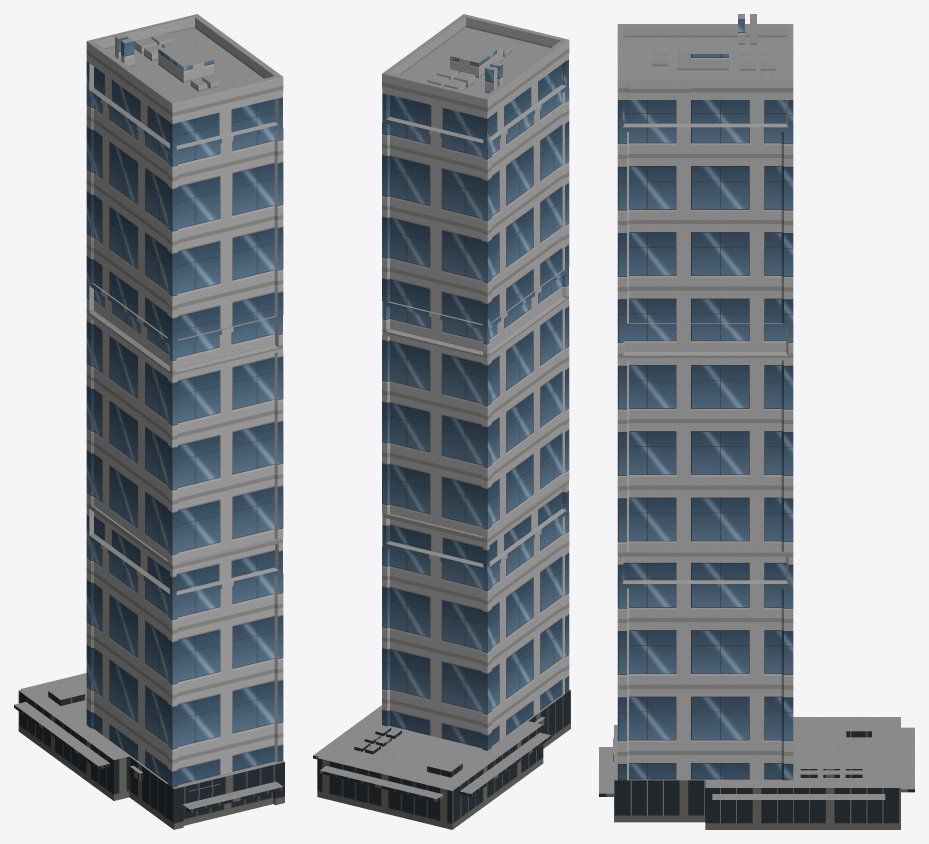
File: Immeuble_1.obj
3 views of the same model, side by side, from view 1: azimuth 30°, elevation 25°; view 2: azimuth 150°, elevation 25°; view 3: azimuth 270°, elevation 25° (orthographic). The views are drawn at different scales.
Parts seen in each view (by area): view 1: Immeuble; view 2: Immeuble; view 3: Immeuble.
Boxes of the visible parts, x1=… form: Immeuble: x1=14, y1=14, x2=284, y2=829; Immeuble: x1=313, y1=14, x2=570, y2=829; Immeuble: x1=599, y1=14, x2=914, y2=829.
Size of the model in its own units: 8.59 by 36.57 by 13.81.
Materials: 3 (3 with a texture image).
